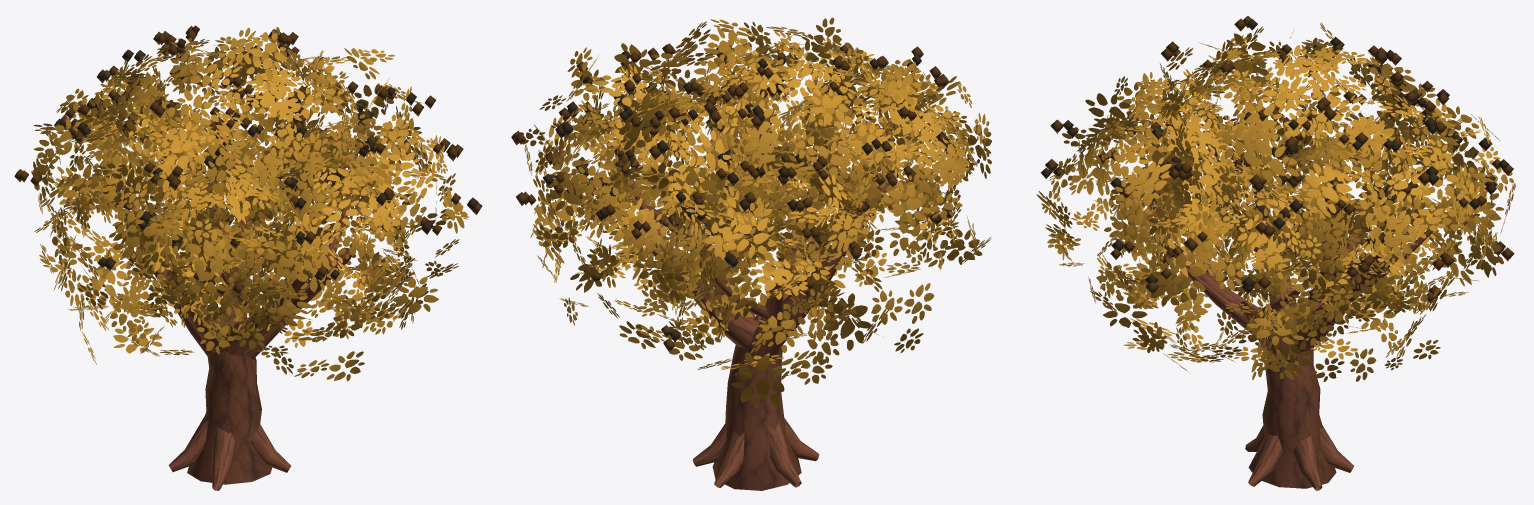
Rendered from oak_acorns_autumn.gltf.
3 views of the same model, side by side, from view 1: azimuth 30°, elevation 25°; view 2: azimuth 150°, elevation 25°; view 3: azimuth 270°, elevation 25° (orthographic). The views are drawn at different scales.
Parts seen in each view (by area): view 1: oak_acorns_autumn; view 2: oak_acorns_autumn; view 3: oak_acorns_autumn.
Boxes of the visible parts, left/top/right/bottom form: oak_acorns_autumn: left=14, top=25, right=482, bottom=490; oak_acorns_autumn: left=511, top=17, right=991, bottom=490; oak_acorns_autumn: left=1036, top=16, right=1515, bottom=490.
Bounding box in the file's own units: 8.76 × 9.18 × 9.32.
Materials: 4 (2 with a texture image).
